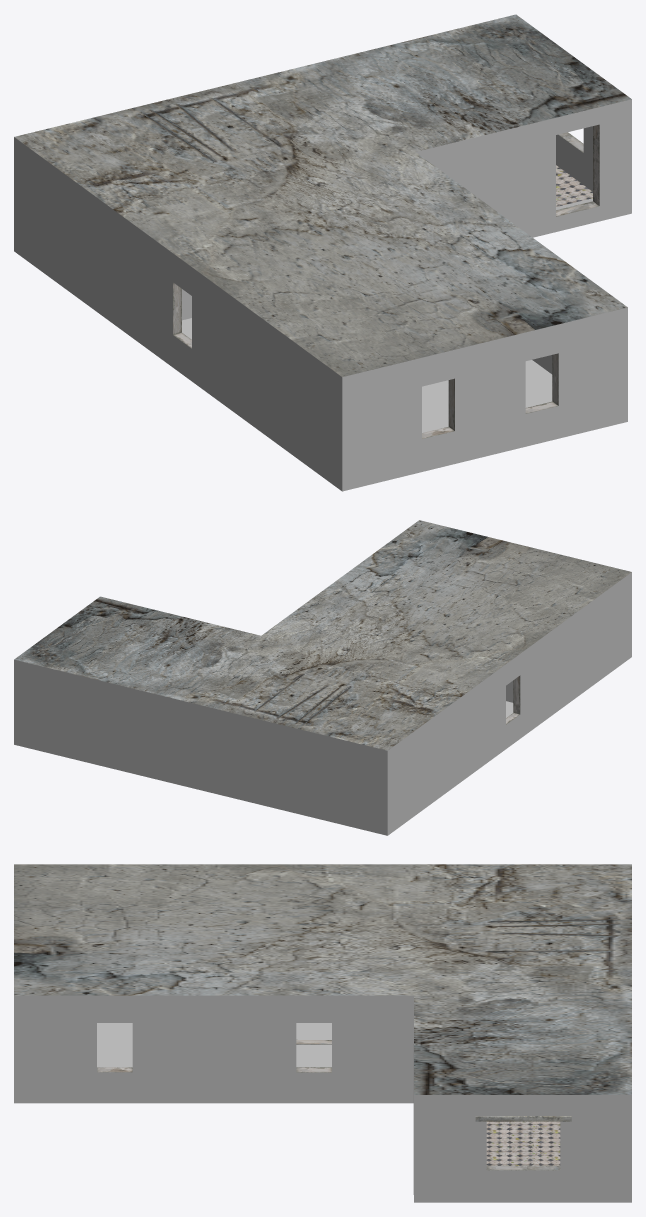
File: Corps_Form_02_4.FBX
3 views of the same model, one above another, from view 1: azimuth 30°, elevation 25°; view 2: azimuth 150°, elevation 25°; view 3: azimuth 270°, elevation 25° (orthographic). The views are drawn at different scales.
Parts seen in each view (by area): view 1: Corps_02_4; view 2: Corps_02_4; view 3: Corps_02_4.
Boxes of the visible parts, left/top/right/bottom form: Corps_02_4: left=14, top=14, right=631, bottom=491; Corps_02_4: left=14, top=520, right=631, bottom=835; Corps_02_4: left=14, top=864, right=631, bottom=1202.
Bounding box in the file's own units: 1431 × 1614 × 310.
